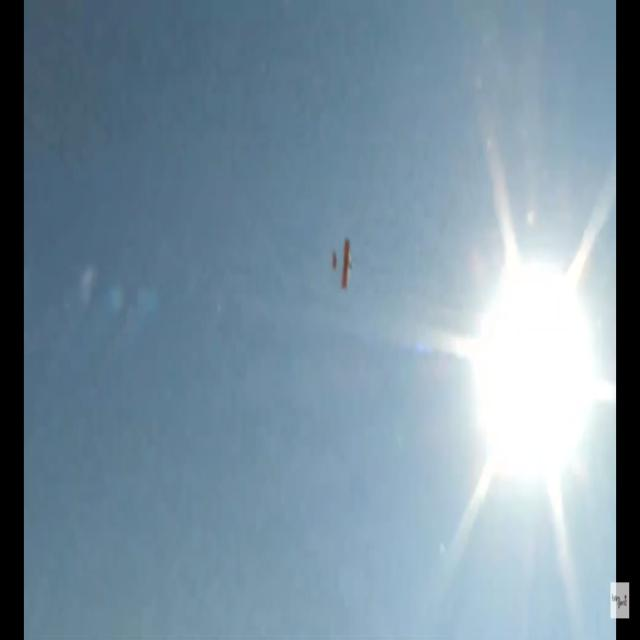iha: (330, 230, 355, 285)
